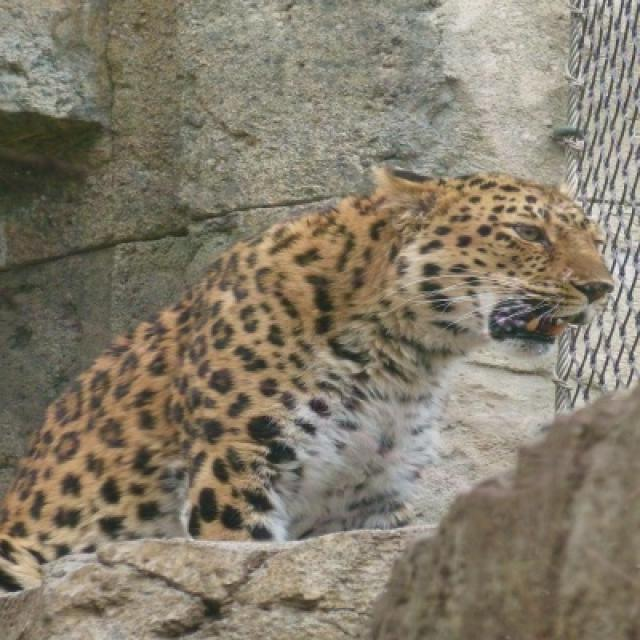Jaguar: (0, 165, 616, 598)
